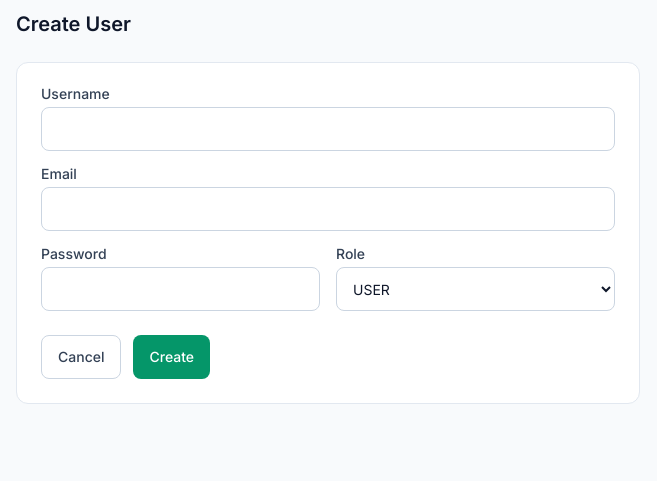
UserCreatePage › shows validation errors when form is empty
What coordinates should you click on to do the following:
click the button "Create"
I would click on:
 (172, 357)
Its box is [134,335,210,379].
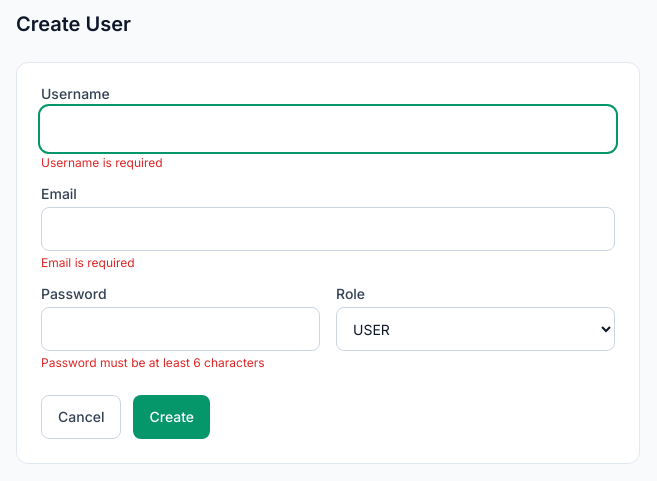
Now the text "Username is required" is shown, box [41,155,163,170]
